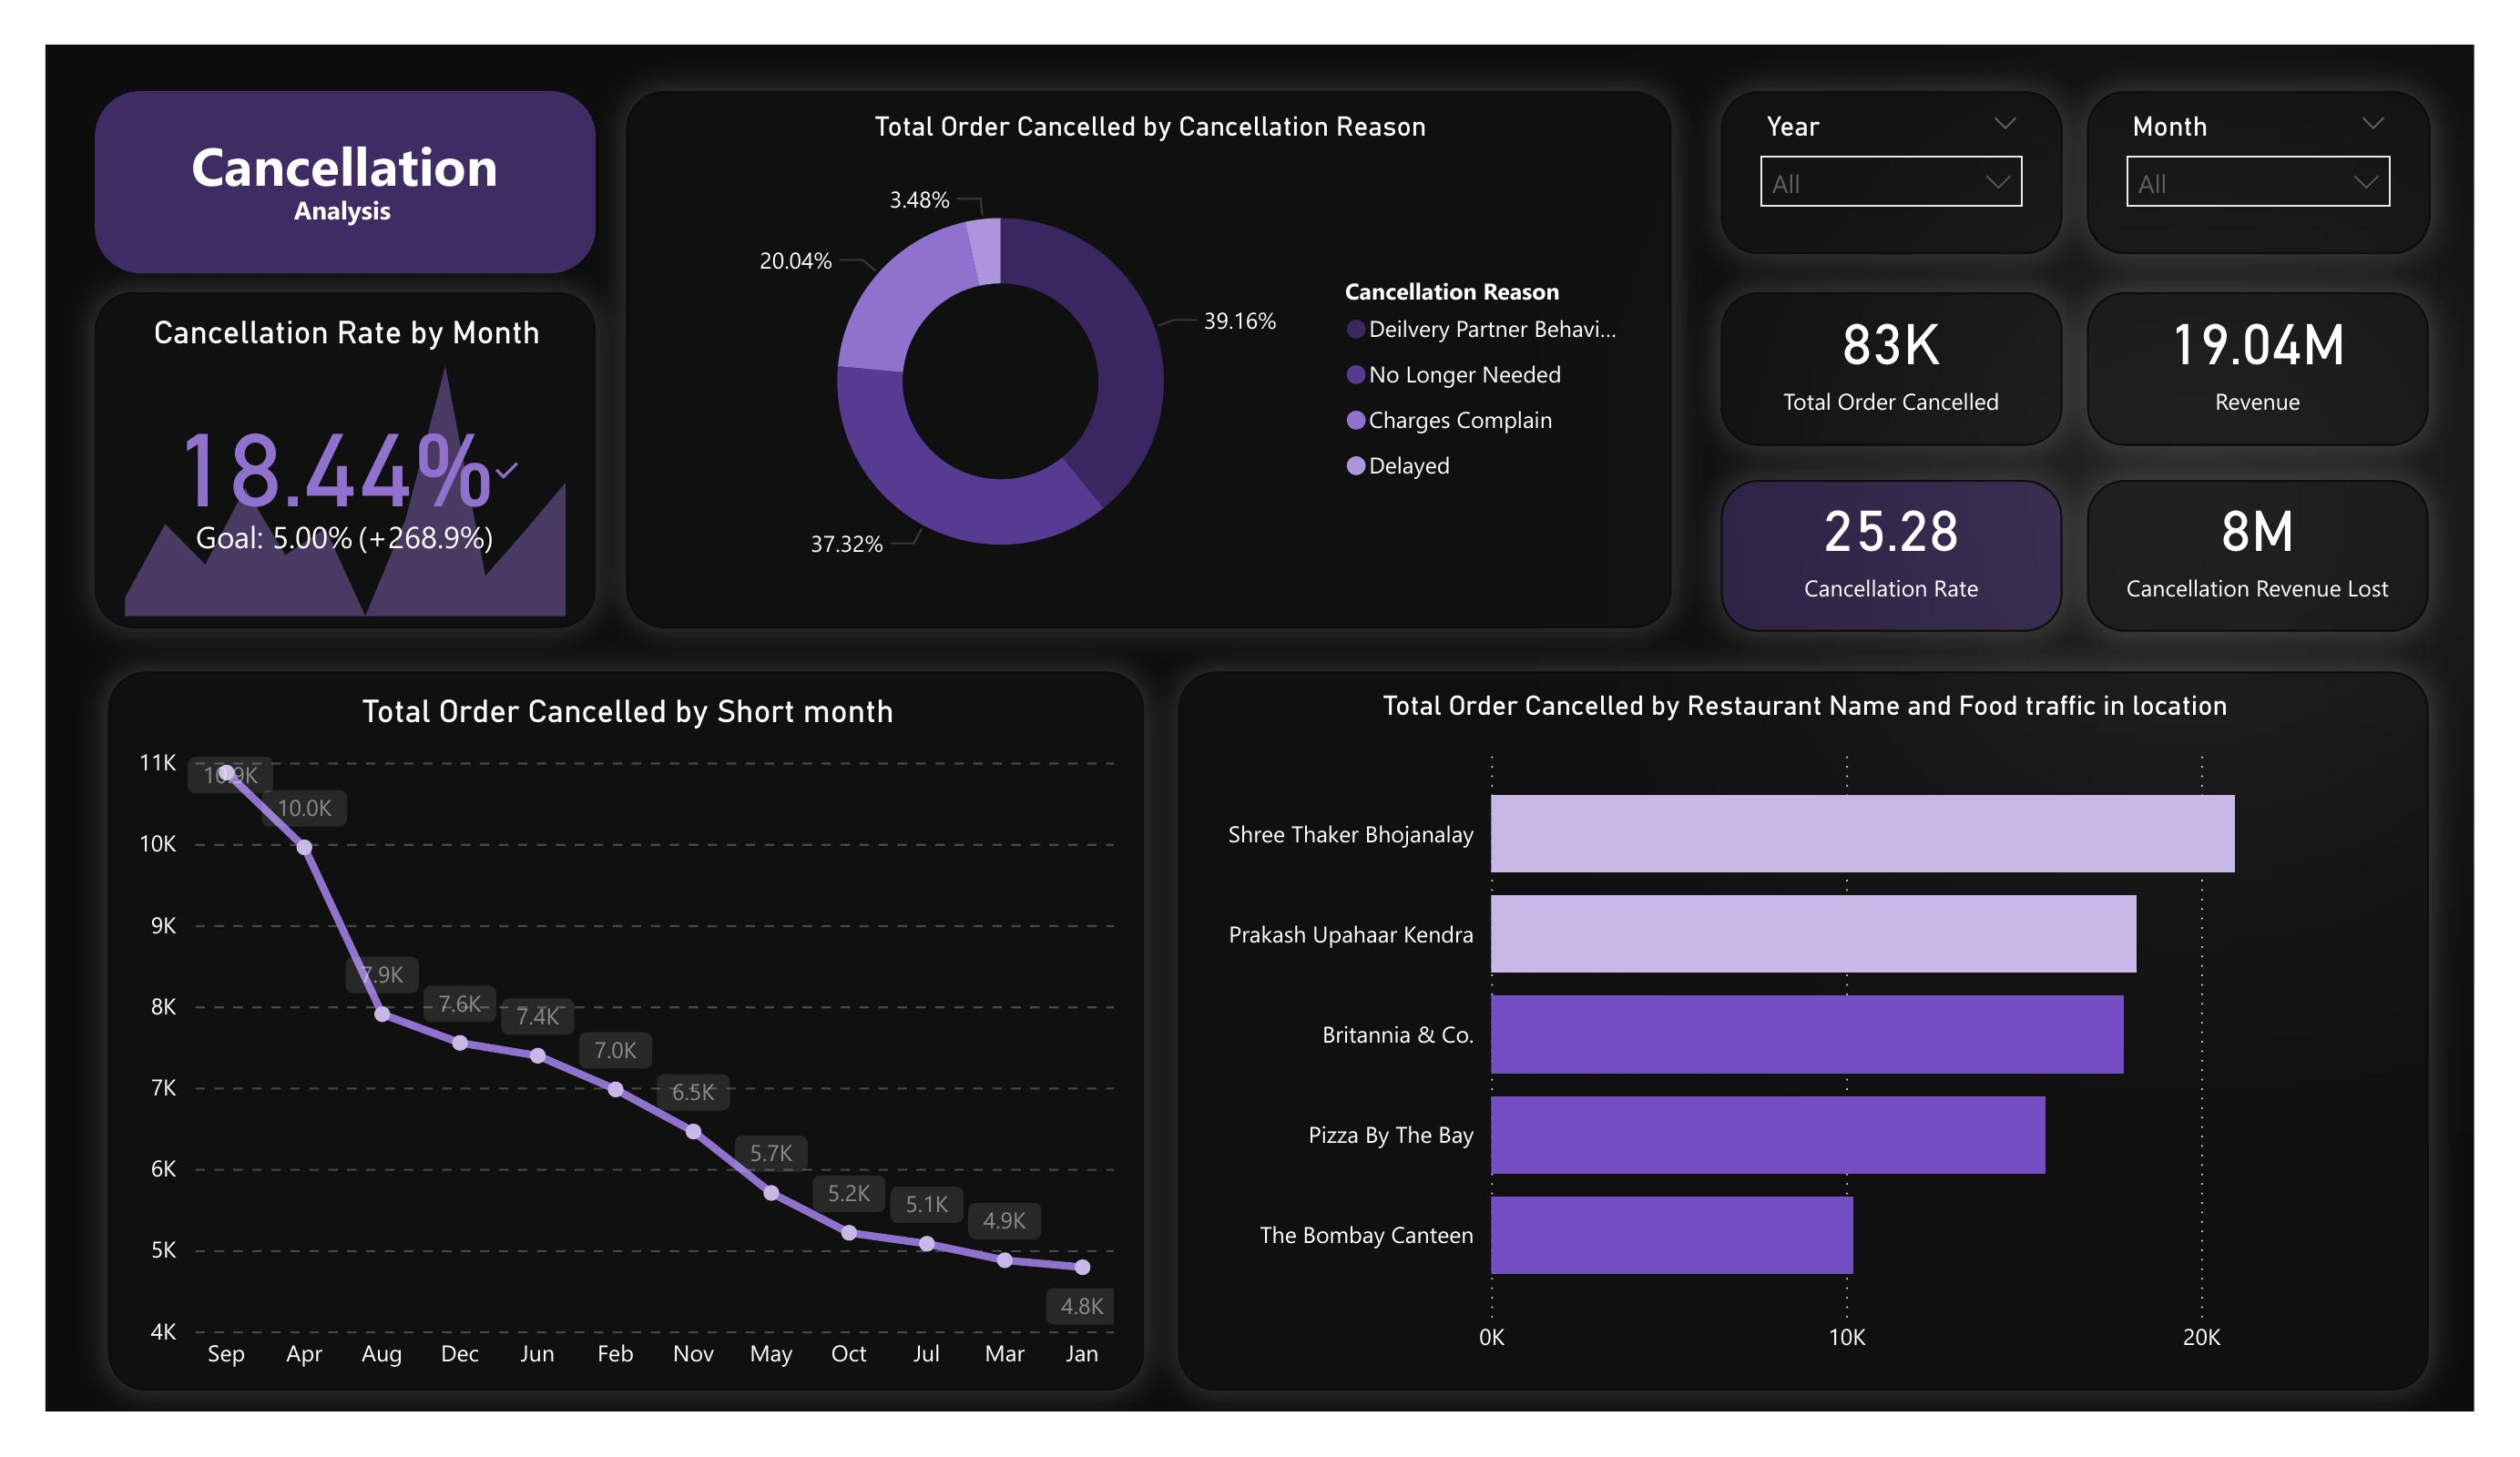

What the dashboard file says about the page in this screenshot:
{"tool":"powerbi","page":{"name":"Cancellation Analysis","canvas":[1280,720],"ordinal":1},"visuals":[{"type":"slicer","fields":{"Values":["D_Date.Year"]},"box":[882.9,24.3,180,85.7],"z":0},{"type":"slicer","fields":{"Values":["D_Date.Month"]},"box":[1075.7,24.3,181.4,85.7],"z":1000},{"type":"kpi","title":"Cancellation Rate by Month","fields":{"Indicator":["Measures (2).Cancellation Rate %"],"TrendLine":["D_Date.Month"],"Goal":["Measures (2).Cancellation Target"]},"box":[25.7,130,264.3,177.1],"z":2000},{"type":"card","fields":{"Values":["Measures (2).Cancellation Rate"]},"box":[882.9,228.6,180,80],"z":3000},{"type":"shape","box":[25.7,24.3,264.3,95.7],"z":4000},{"type":"textbox","box":[88,73,137.1,37.1],"z":5000},{"type":"card","fields":{"Values":["Measures (2).Total Order Cancelled"]},"box":[882.9,130,180,81.4],"z":6000},{"type":"donutChart","fields":{"Category":["D_Order_Status.Cancellation Reason"],"Y":["Measures (2).Total Order Cancelled"]},"box":[305.7,24.3,551.4,282.9],"z":7000},{"type":"barChart","fields":{"Category":["D_Restaurant.Restaurant Name"],"Y":["Measures (2).Total Order Cancelled"],"Series":["D_Restaurant.Food traffic in location"]},"box":[597.1,330,658.6,378.6],"z":8000},{"type":"lineChart","fields":{"Y":["Measures (2).Total Order Cancelled"],"Category":["D_Date.Short month"]},"box":[32.9,330,545.7,378.6],"z":9000},{"type":"card","fields":{"Values":["Measures (2).Lost Revenue"]},"box":[1075.7,228.6,180,80],"z":10000},{"type":"card","fields":{"Values":["Sum(F_Main.Actual Revenue)"]},"box":[1075.7,130,180,81.4],"z":11000}]}

Visuals, with their boxes in screenshot pixels (x1, y1, x2, y2):
slicer - D_Date.Year: 1721 92 2063 254
slicer - D_Date.Month: 2086 92 2431 254
"Cancellation Rate by Month" kpi: 95 292 596 628
card - Measures (2).Cancellation Rate: 1721 479 2063 631
shape: 95 92 596 273
textbox: 212 184 473 254
card - Measures (2).Total Order Cancelled: 1721 292 2063 446
donutChart - D_Order_Status.Cancellation Reason x Measures (2).Total Order Cancelled: 626 92 1672 628
barChart - D_Restaurant.Restaurant Name x Measures (2).Total Order Cancelled: 1178 672 2428 1390
lineChart - Measures (2).Total Order Cancelled x D_Date.Short month: 108 672 1144 1390
card - Measures (2).Lost Revenue: 2086 479 2428 631
card - Sum(F_Main.Actual Revenue): 2086 292 2428 446
